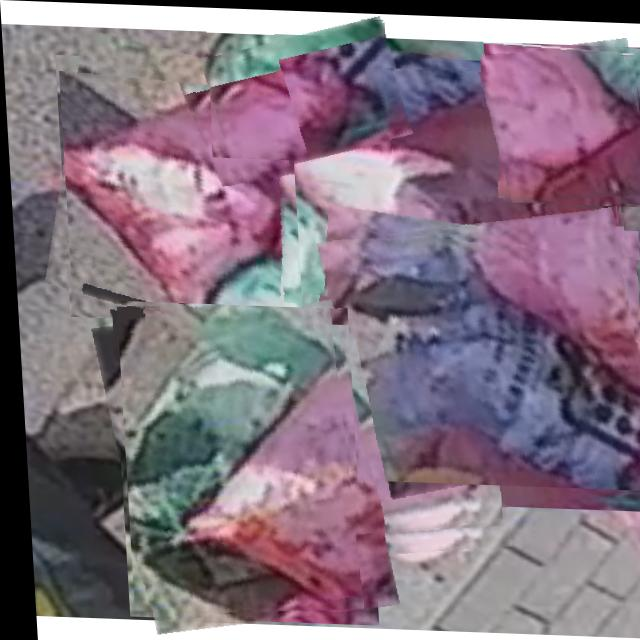general_trashbag: (349, 234, 640, 486), (123, 303, 334, 612), (209, 17, 384, 158)
other_trashbag: (293, 69, 618, 307), (173, 300, 492, 532), (62, 85, 348, 318), (480, 43, 639, 199)
